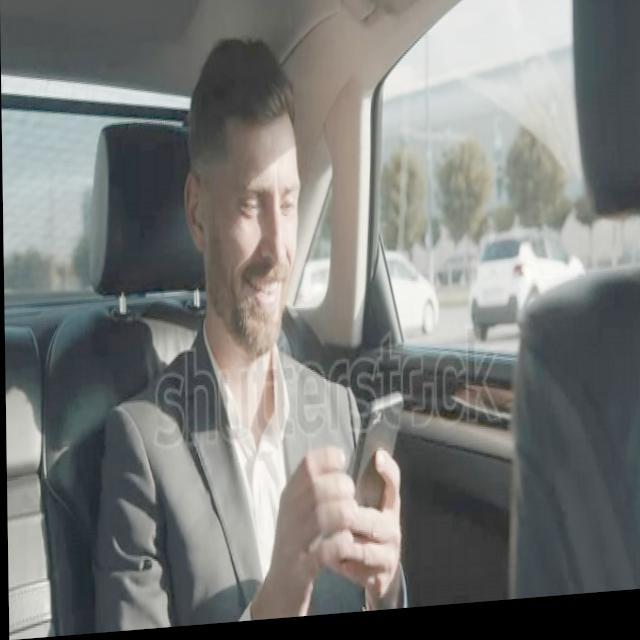PhoneCall: (351, 396, 404, 559)
